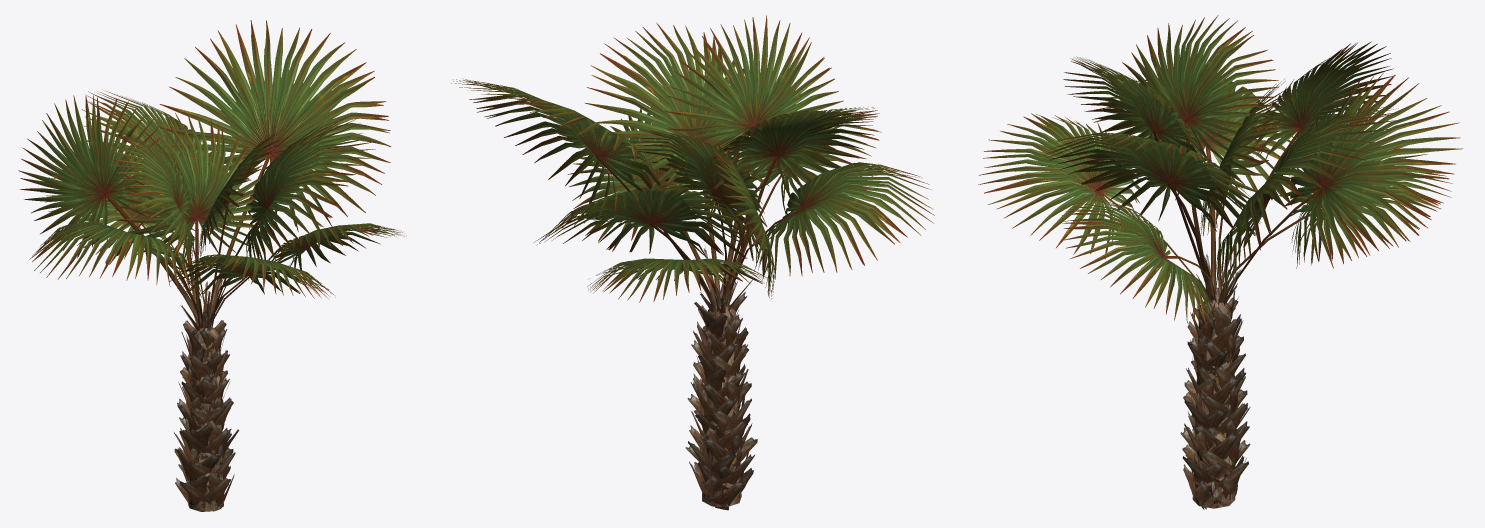
File: MK4_LataniaPalm2.DAE
3 renders of one model, left to right at view 1: azimuth 30°, elevation 25°; view 2: azimuth 150°, elevation 25°; view 3: azimuth 270°, elevation 25°, orthographic. The views are drawn at different scales.
Parts seen in each view (by area): view 1: MK4_LataniaPalm200, MK4_LataniaPalm50; view 2: MK4_LataniaPalm200, MK4_LataniaPalm50; view 3: MK4_LataniaPalm200, MK4_LataniaPalm50.
Boxes of the visible parts, bbox=[...] form: MK4_LataniaPalm200: bbox=[18, 20, 405, 511]; MK4_LataniaPalm50: bbox=[29, 35, 402, 498]; MK4_LataniaPalm200: bbox=[451, 15, 934, 510]; MK4_LataniaPalm50: bbox=[464, 18, 921, 493]; MK4_LataniaPalm200: bbox=[978, 15, 1462, 509]; MK4_LataniaPalm50: bbox=[984, 28, 1451, 509].
Size of what is drawn, in the model's own units: 25.47 by 24.72 by 25.33.
